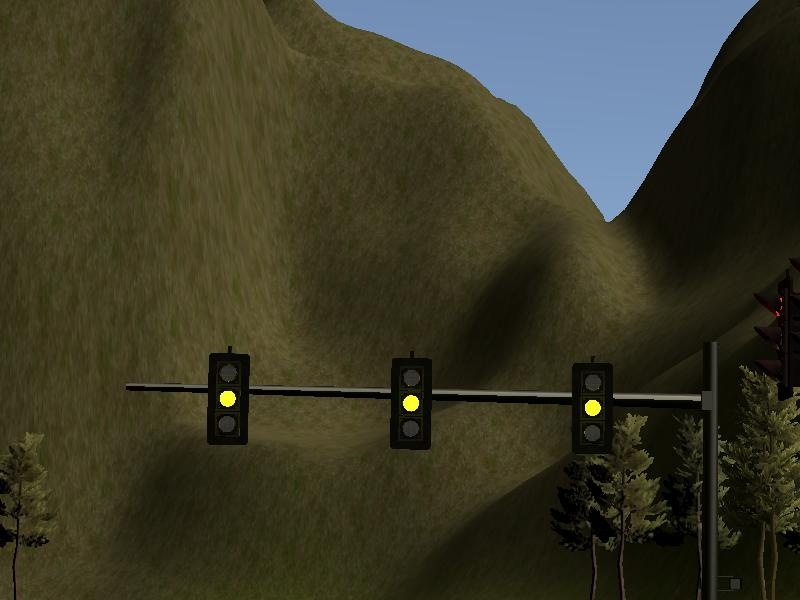yellow: (382, 349, 440, 456), (200, 346, 255, 450), (565, 355, 618, 458)
